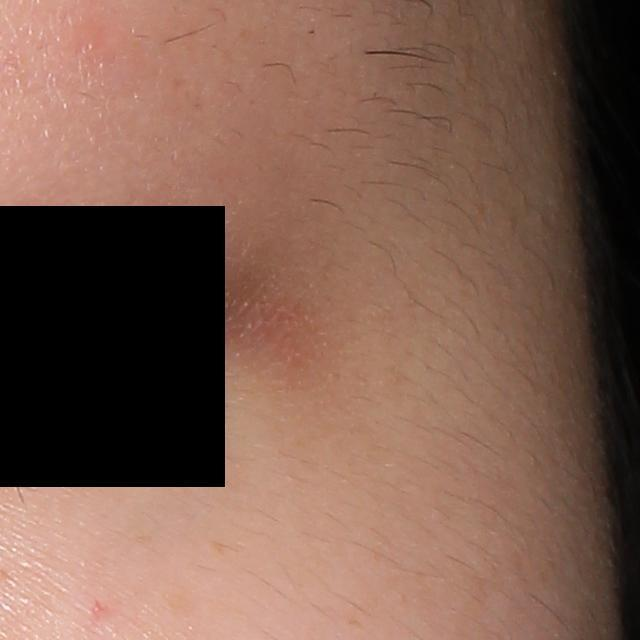melasma: (157, 585, 203, 621)
